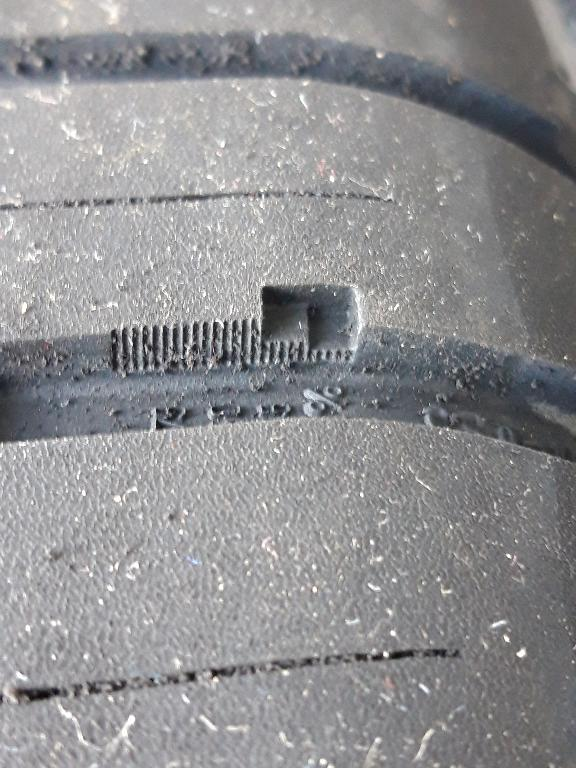temoin:50: (202, 278, 370, 378)
